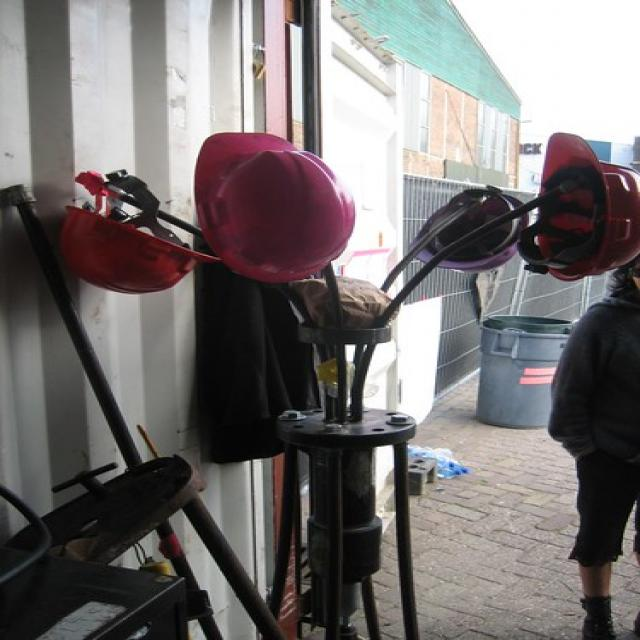Safety-Helmet: (183, 125, 359, 306), (524, 123, 640, 287)
